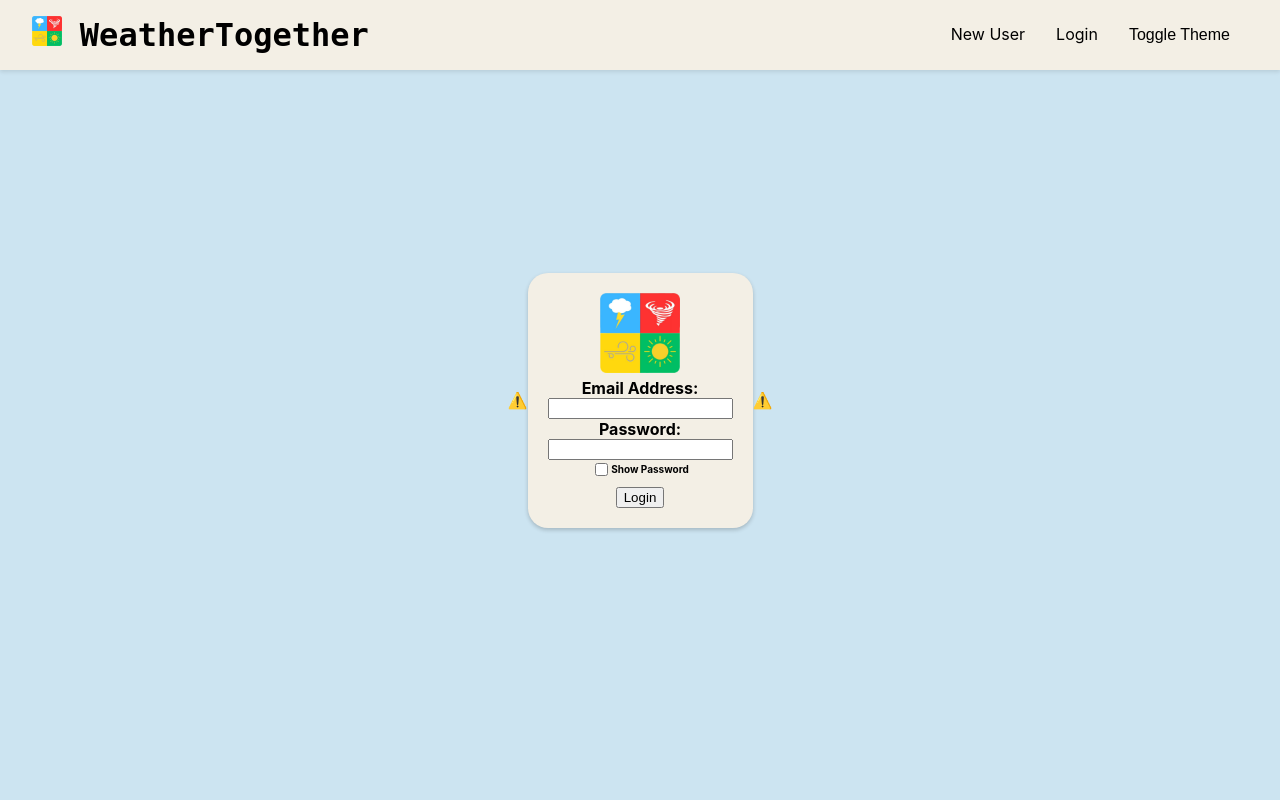
Scenario: Should display Login page with Nav and input fields › should update DOM if login fails due to incorrect info
In the field with class "email": (641, 409) [548,398,733,419], type "fakeUser"
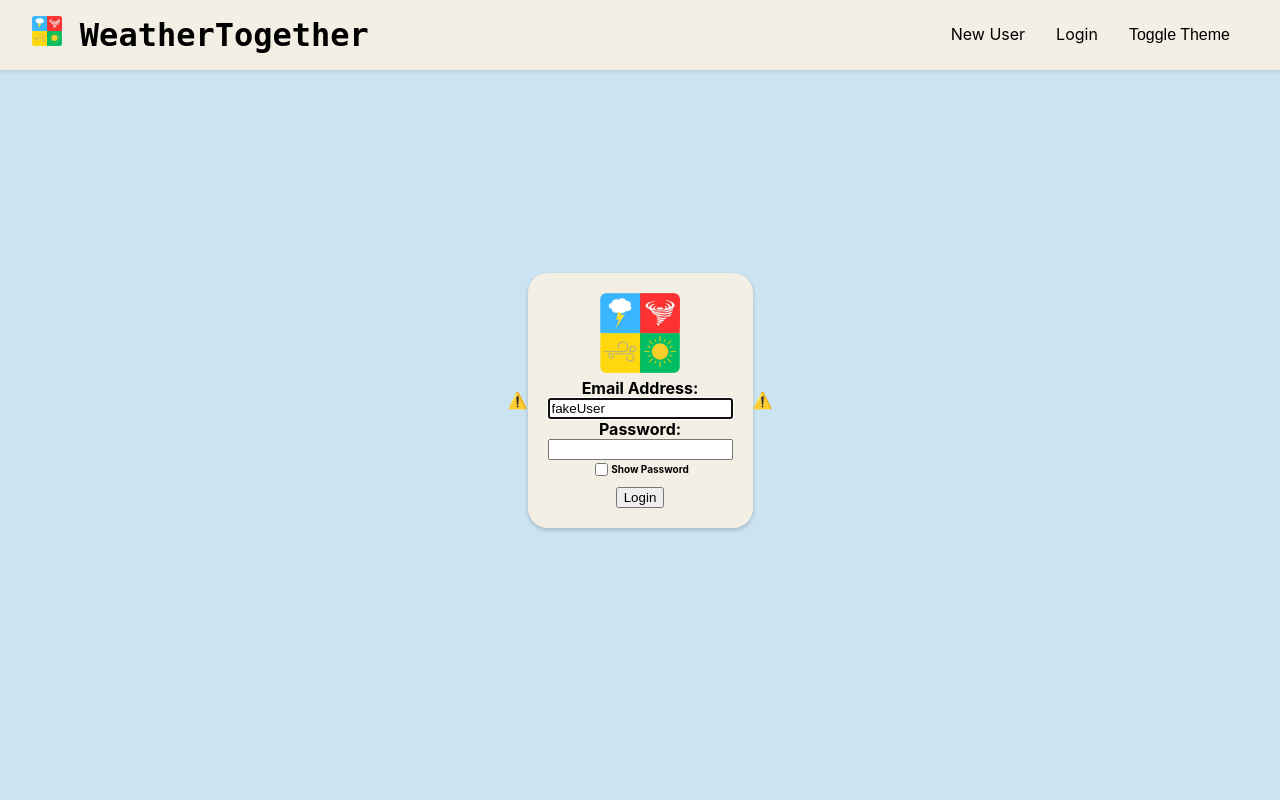
In the password field labelled "Password:": (641, 450) [548,439,733,460], type "password1"
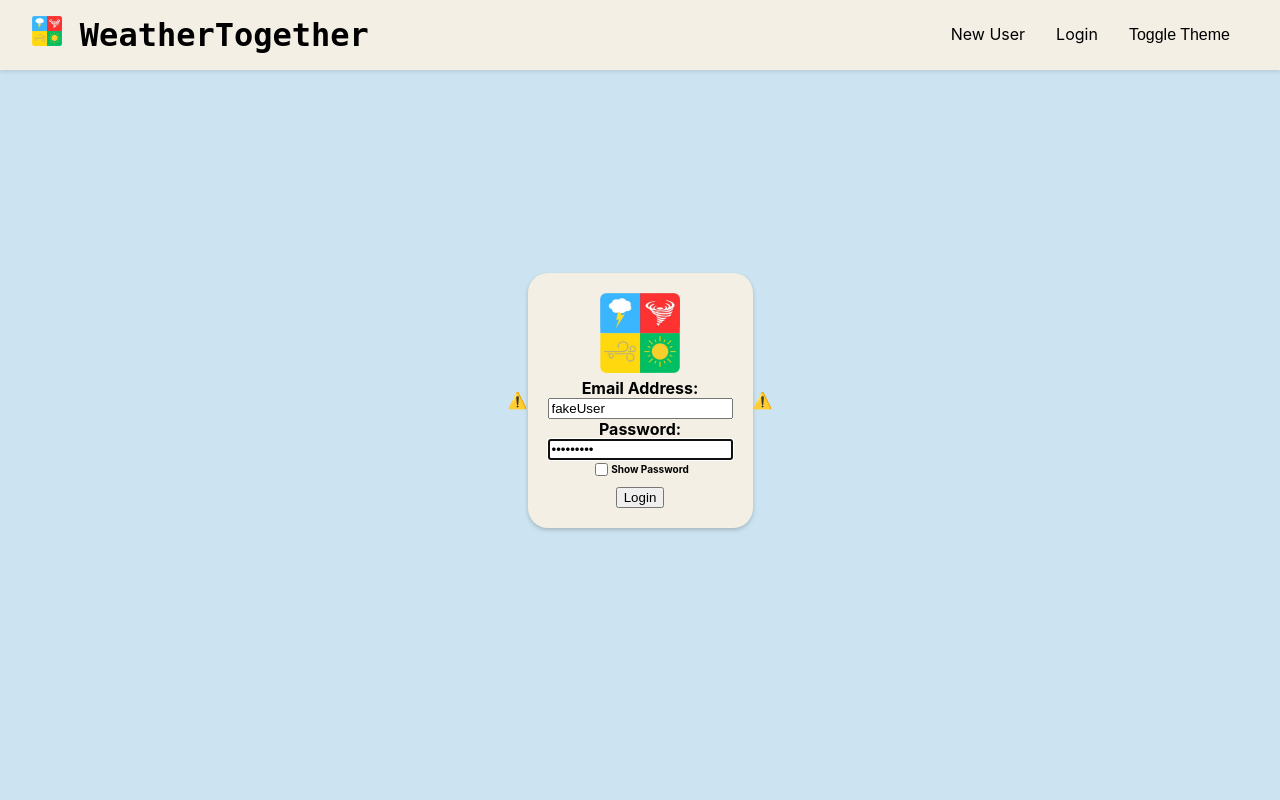
Click the button with class "login-button": (641, 498) [616,487,665,508]
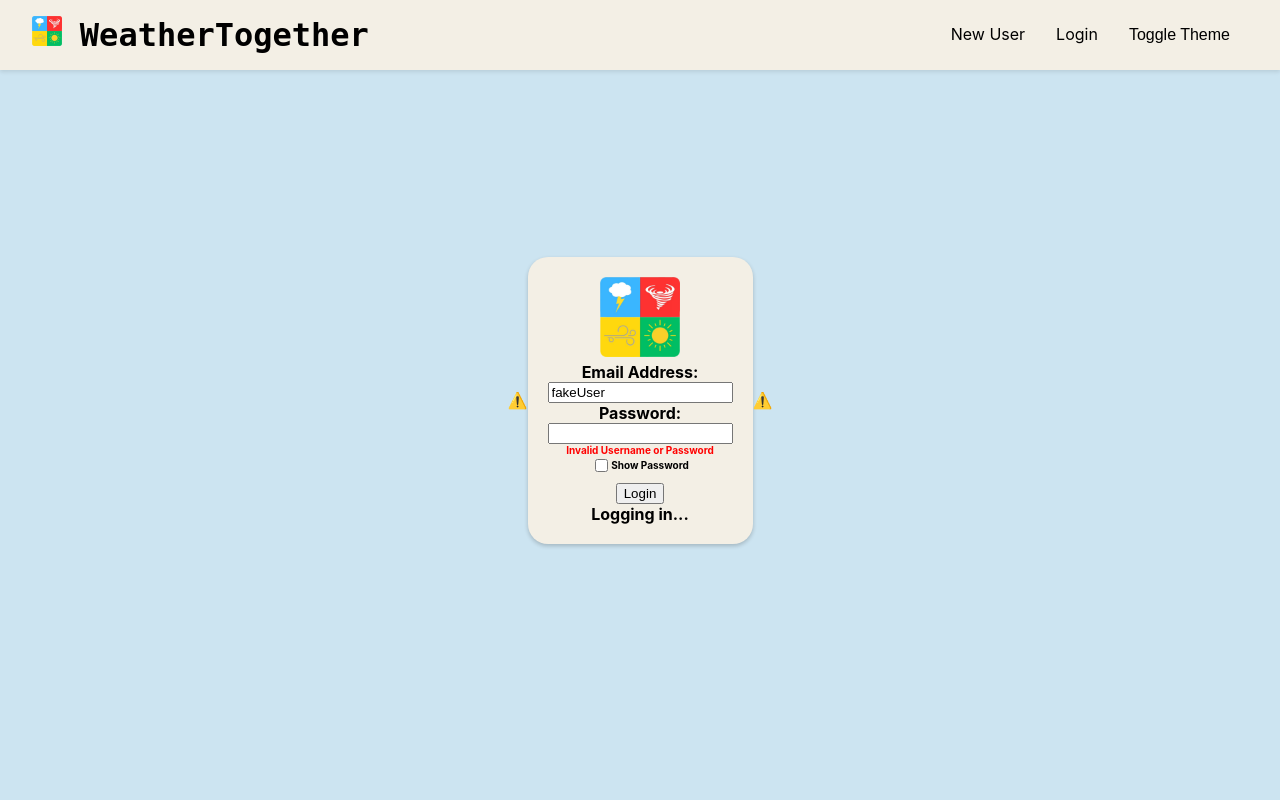
Expected: the label with class "login-fail" reads "Invalid Username or Password", [566,444,714,456]
